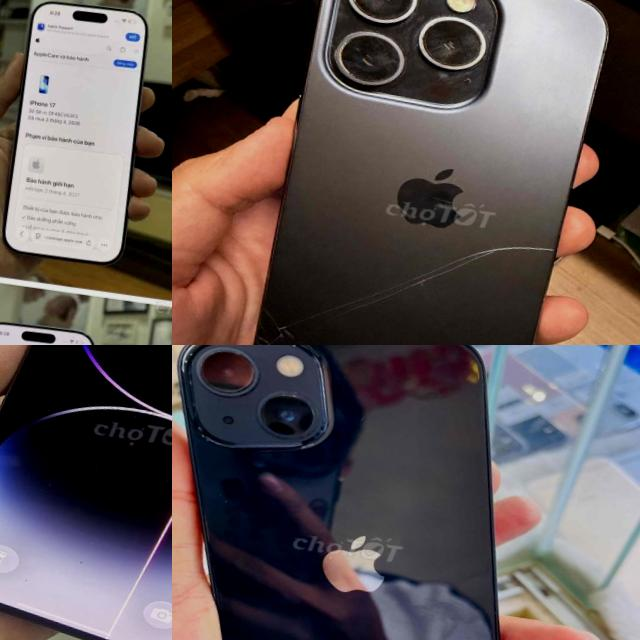physical_damage: (241, 184, 563, 345)
scratch: (292, 0, 507, 112)
